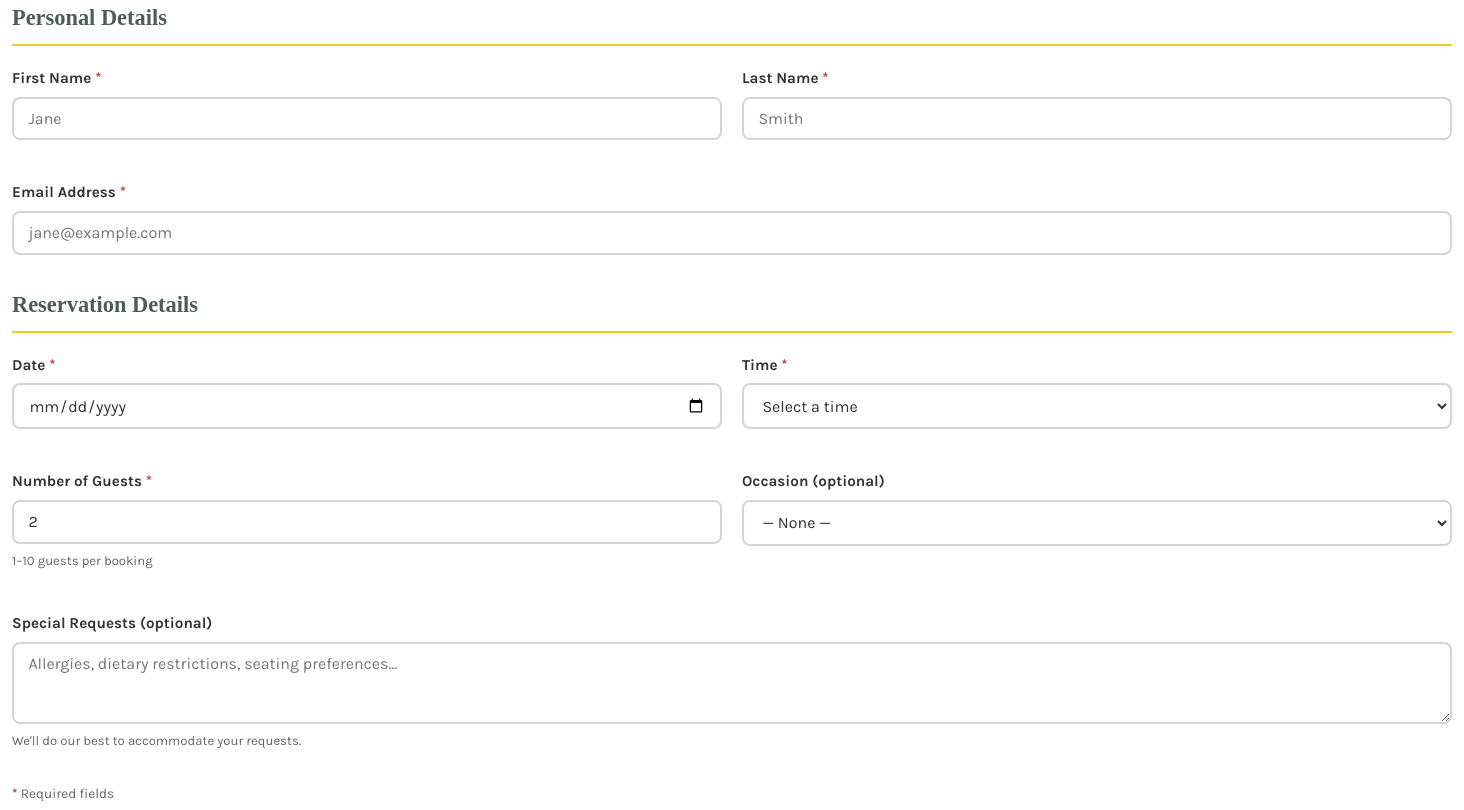
Test: BookingForm validation › shows error for guests above 10
The image size is (1464, 810).
Replace the text in the number field labelled "Number of Guests *" with "15" at (367, 522), box [12,500,722,544]
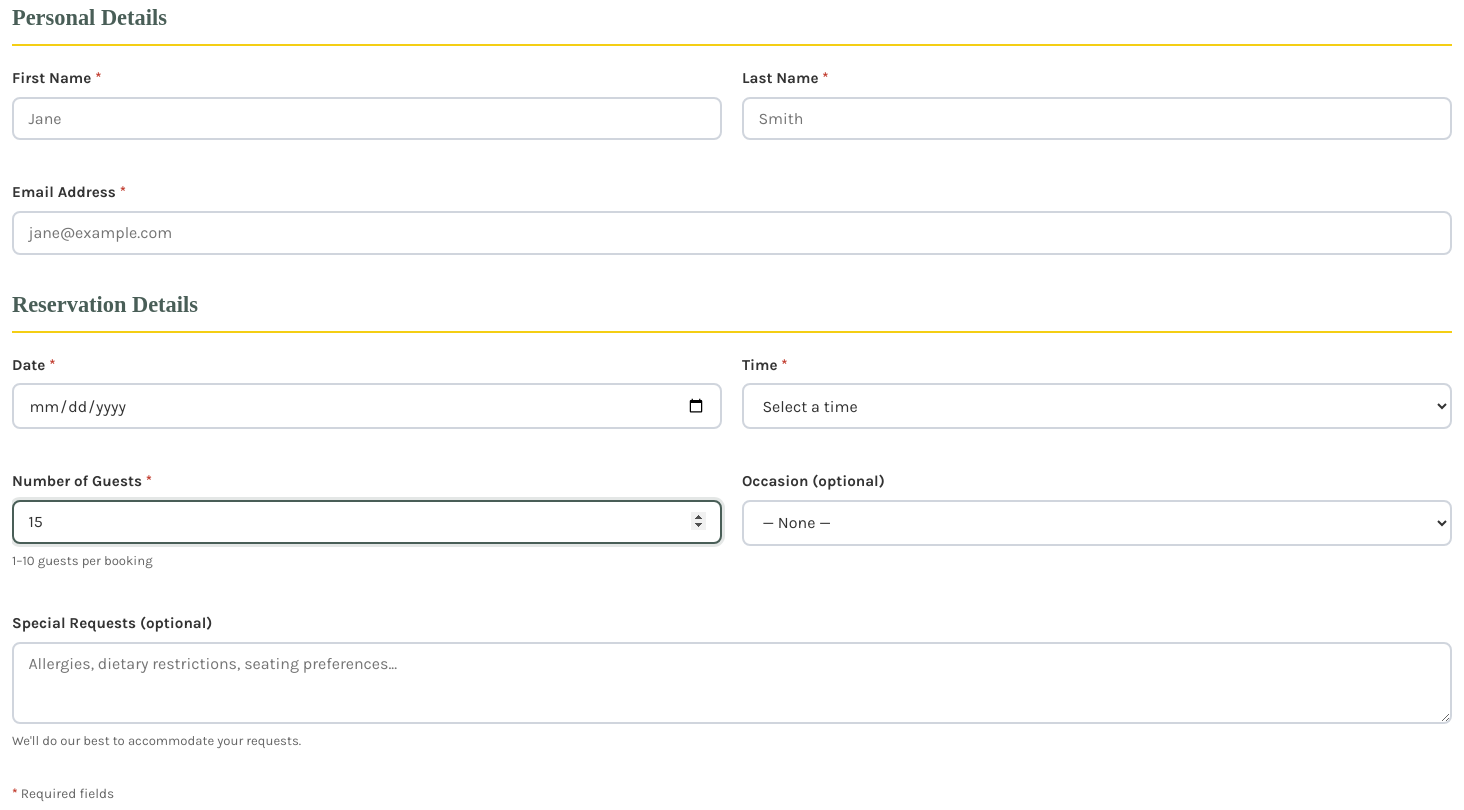
Leave the number field labelled "Number of Guests *", box [12,500,722,544]
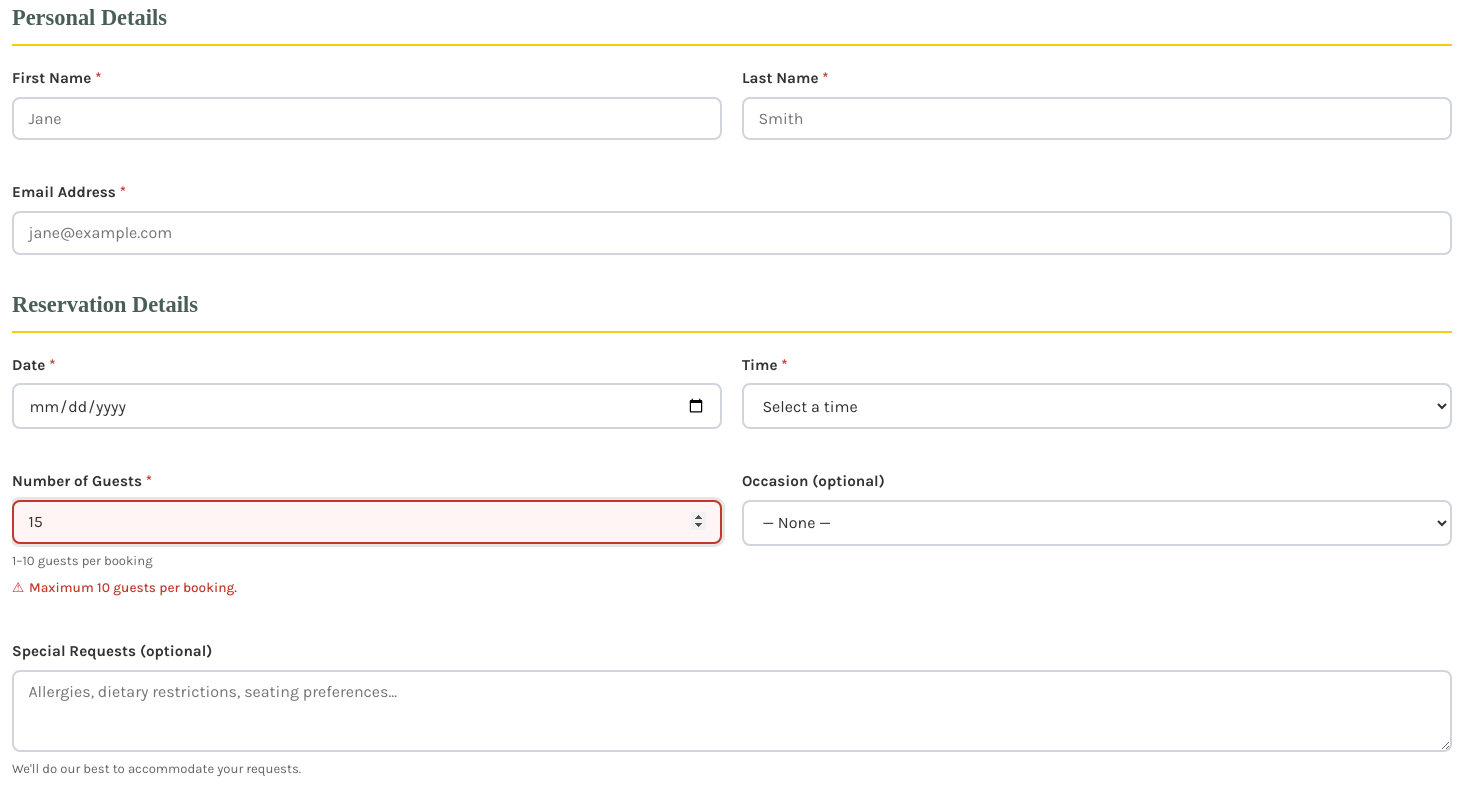
expect the text "Maximum 10 guests per booking." is shown: met, box [29,580,237,595]
